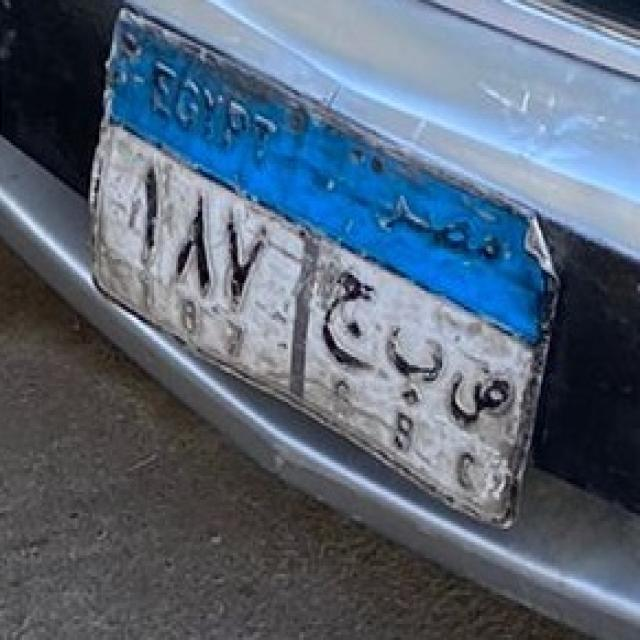1: (125, 162, 168, 268)
7: (215, 204, 277, 316)
8: (166, 196, 218, 292)
Saad: (443, 364, 518, 434)
baa: (378, 328, 448, 411)
geem: (310, 260, 384, 379)
